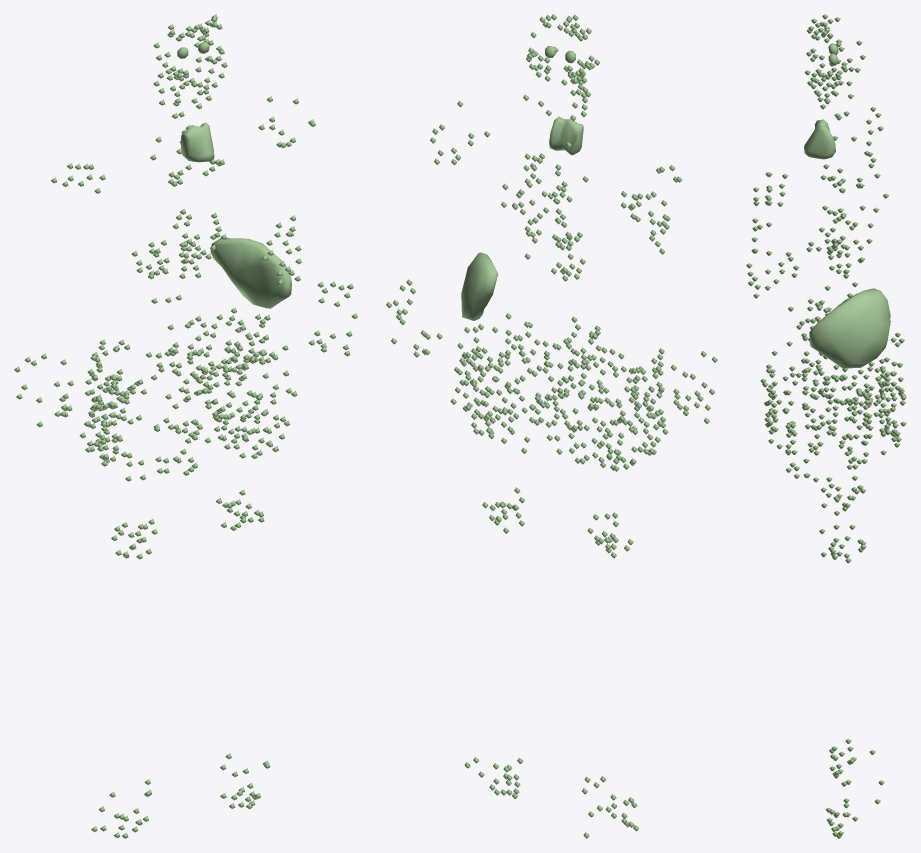
Rendered from pediatric_adolescent_male.lymphatic.LOD2.glb.
The picture shows the model from 3 angles, left to right: view 1: azimuth 30°, elevation 25°; view 2: azimuth 150°, elevation 25°; view 3: azimuth 270°, elevation 25°; orthographic projection. The views are drawn at different scales.
Parts seen in each view (by area): view 1: PEDIATRIC.ADOLESCENT.MALE.LYMPHATIC.LYMPHATIC_NODES_TRUNK, PEDIATRIC.ADOLESCENT.MALE.LYMPHATIC.SPLEEN, PEDIATRIC.ADOLESCENT.MALE.LYMPHATIC.LYMPHATIC_NODES_THORACIC, PEDIATRIC.ADOLESCENT.MALE.LYMPHATIC.LYMPHATIC_NODES_ET, PEDIATRIC.ADOLESCENT.MALE.LYMPHATIC.THYMUS, PEDIATRIC.ADOLESCENT.MALE.LYMPHATIC.LYMPHATIC_NODES_ARMS, PEDIATRIC.ADOLESCENT.MALE.LYMPHATIC.LYMPHATIC_NODES_LEGS; view 2: PEDIATRIC.ADOLESCENT.MALE.LYMPHATIC.LYMPHATIC_NODES_TRUNK, PEDIATRIC.ADOLESCENT.MALE.LYMPHATIC.SPLEEN, PEDIATRIC.ADOLESCENT.MALE.LYMPHATIC.LYMPHATIC_NODES_THORACIC, PEDIATRIC.ADOLESCENT.MALE.LYMPHATIC.LYMPHATIC_NODES_ET, PEDIATRIC.ADOLESCENT.MALE.LYMPHATIC.LYMPHATIC_NODES_LEGS, PEDIATRIC.ADOLESCENT.MALE.LYMPHATIC.THYMUS, PEDIATRIC.ADOLESCENT.MALE.LYMPHATIC.LYMPHATIC_NODES_ARMS; view 3: PEDIATRIC.ADOLESCENT.MALE.LYMPHATIC.LYMPHATIC_NODES_TRUNK, PEDIATRIC.ADOLESCENT.MALE.LYMPHATIC.SPLEEN, PEDIATRIC.ADOLESCENT.MALE.LYMPHATIC.LYMPHATIC_NODES_THORACIC, PEDIATRIC.ADOLESCENT.MALE.LYMPHATIC.LYMPHATIC_NODES_ET, PEDIATRIC.ADOLESCENT.MALE.LYMPHATIC.THYMUS, PEDIATRIC.ADOLESCENT.MALE.LYMPHATIC.LYMPHATIC_NODES_LEGS, PEDIATRIC.ADOLESCENT.MALE.LYMPHATIC.LYMPHATIC_NODES_ARMS, PEDIATRIC.ADOLESCENT.MALE.LYMPHATIC.LYMPHATIC_NODES_HEAD.
Boxes of the visible parts, bbox=[...] form: PEDIATRIC.ADOLESCENT.MALE.LYMPHATIC.LYMPHATIC_NODES_TRUNK: bbox=[51, 96, 315, 559]; PEDIATRIC.ADOLESCENT.MALE.LYMPHATIC.SPLEEN: bbox=[210, 238, 291, 308]; PEDIATRIC.ADOLESCENT.MALE.LYMPHATIC.LYMPHATIC_NODES_THORACIC: bbox=[148, 124, 226, 279]; PEDIATRIC.ADOLESCENT.MALE.LYMPHATIC.LYMPHATIC_NODES_ET: bbox=[153, 14, 227, 87]; PEDIATRIC.ADOLESCENT.MALE.LYMPHATIC.THYMUS: bbox=[180, 122, 214, 162]; PEDIATRIC.ADOLESCENT.MALE.LYMPHATIC.LYMPHATIC_NODES_ARMS: bbox=[14, 281, 357, 427]; PEDIATRIC.ADOLESCENT.MALE.LYMPHATIC.LYMPHATIC_NODES_LEGS: bbox=[91, 753, 269, 838]; PEDIATRIC.ADOLESCENT.MALE.LYMPHATIC.LYMPHATIC_NODES_TRUNK: bbox=[430, 101, 682, 558]; PEDIATRIC.ADOLESCENT.MALE.LYMPHATIC.SPLEEN: bbox=[461, 252, 498, 320]; PEDIATRIC.ADOLESCENT.MALE.LYMPHATIC.LYMPHATIC_NODES_THORACIC: bbox=[523, 142, 588, 281]; PEDIATRIC.ADOLESCENT.MALE.LYMPHATIC.LYMPHATIC_NODES_ET: bbox=[526, 14, 600, 84]; PEDIATRIC.ADOLESCENT.MALE.LYMPHATIC.LYMPHATIC_NODES_LEGS: bbox=[464, 757, 638, 838]; PEDIATRIC.ADOLESCENT.MALE.LYMPHATIC.THYMUS: bbox=[549, 116, 583, 155]; PEDIATRIC.ADOLESCENT.MALE.LYMPHATIC.LYMPHATIC_NODES_ARMS: bbox=[386, 279, 717, 423]; PEDIATRIC.ADOLESCENT.MALE.LYMPHATIC.LYMPHATIC_NODES_TRUNK: bbox=[746, 84, 906, 563]; PEDIATRIC.ADOLESCENT.MALE.LYMPHATIC.SPLEEN: bbox=[809, 288, 890, 368]; PEDIATRIC.ADOLESCENT.MALE.LYMPHATIC.LYMPHATIC_NODES_THORACIC: bbox=[806, 135, 880, 274]; PEDIATRIC.ADOLESCENT.MALE.LYMPHATIC.LYMPHATIC_NODES_ET: bbox=[804, 14, 865, 87]; PEDIATRIC.ADOLESCENT.MALE.LYMPHATIC.THYMUS: bbox=[804, 119, 835, 159]; PEDIATRIC.ADOLESCENT.MALE.LYMPHATIC.LYMPHATIC_NODES_LEGS: bbox=[826, 739, 884, 838]; PEDIATRIC.ADOLESCENT.MALE.LYMPHATIC.LYMPHATIC_NODES_ARMS: bbox=[812, 245, 868, 456]; PEDIATRIC.ADOLESCENT.MALE.LYMPHATIC.LYMPHATIC_NODES_HEAD: bbox=[807, 62, 853, 120].
Bounding box in the file's own units: 0.4765 × 1.11 × 0.2052.
